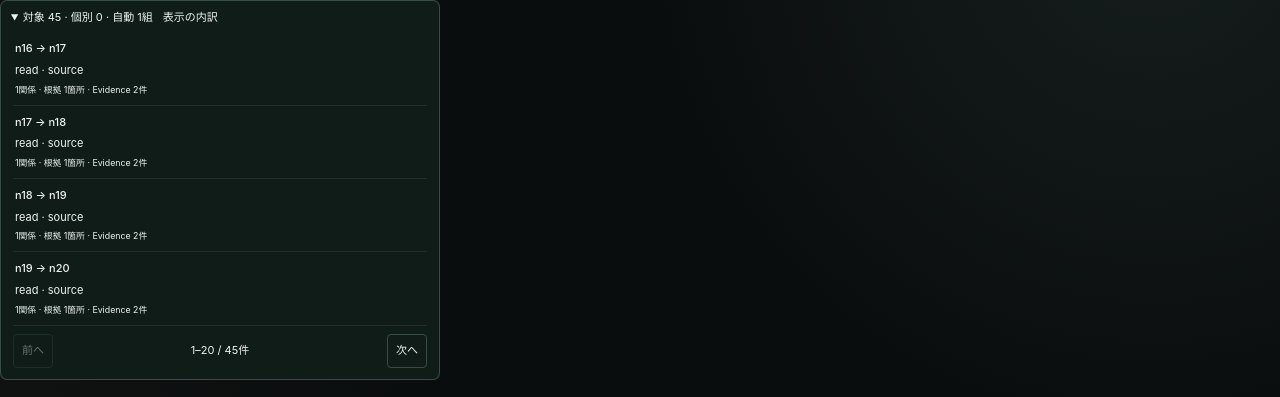
filter shrinking inspected original relations recovers their final available page
(page scrolled)
Click the button "次へ".
click(407, 351)  # box x1=387 y1=334 x2=427 y2=368
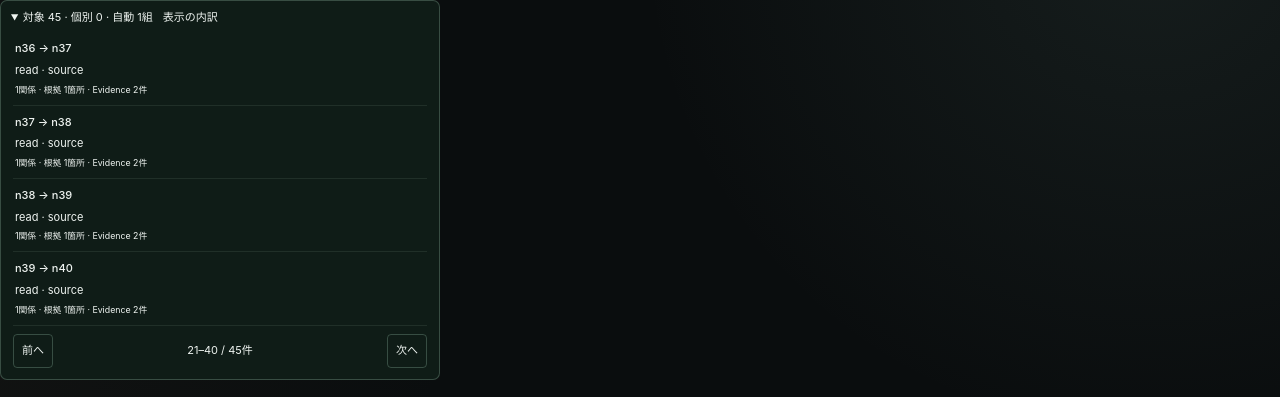
Click the button "次へ".
click(407, 351)  # box x1=387 y1=334 x2=427 y2=368
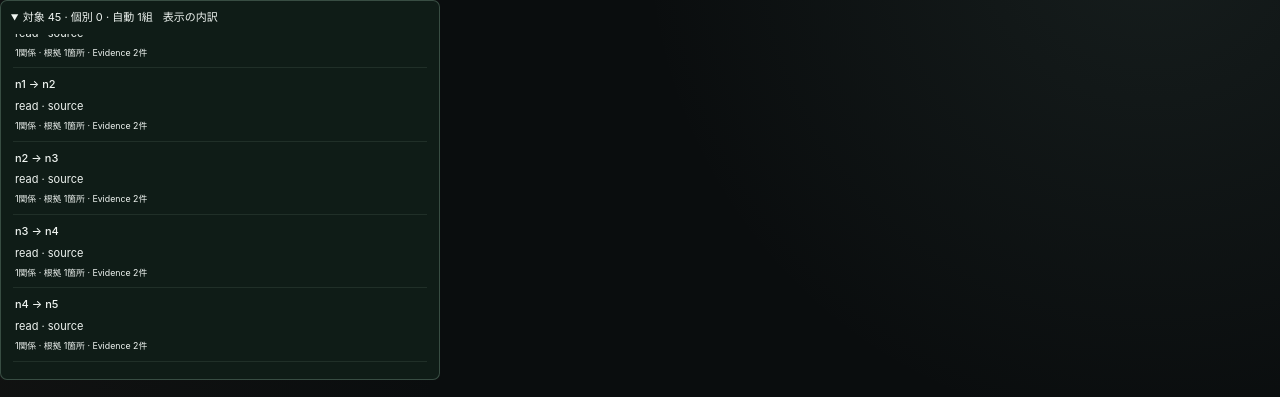
Expected: the number of buttons is 5
